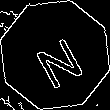N_NW: (25, 23, 85, 87)
